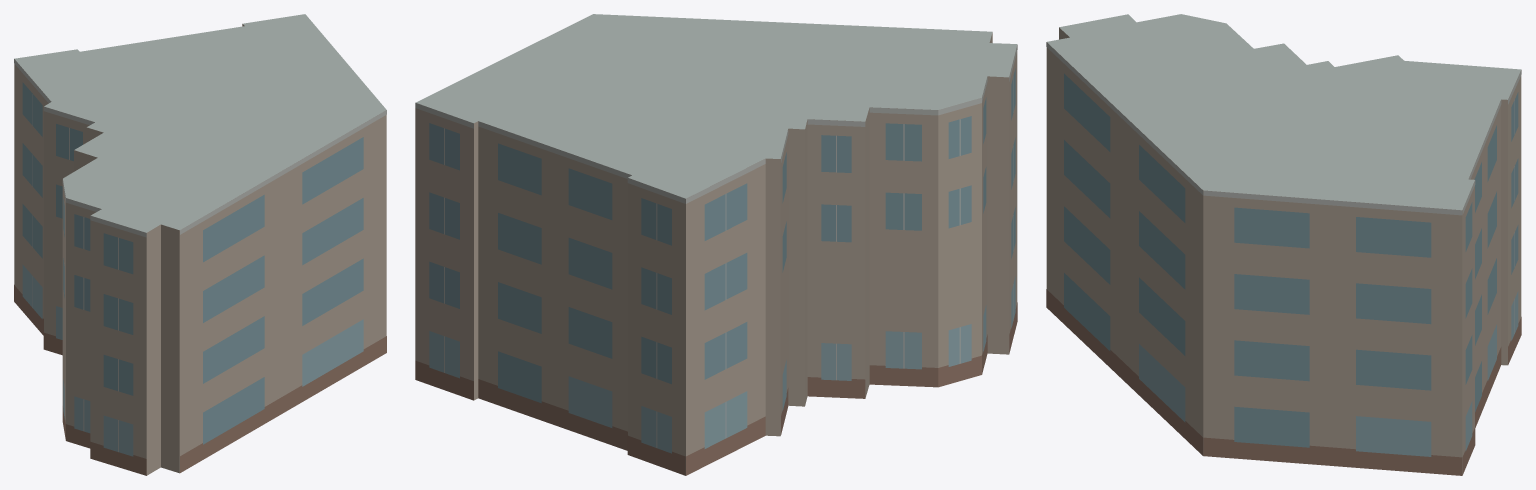
Rendered from survey-upis-33007033.glb.
3 views of the same model, side by side, from view 1: azimuth 30°, elevation 25°; view 2: azimuth 150°, elevation 25°; view 3: azimuth 270°, elevation 25° (orthographic). The views are drawn at different scales.
Parts seen in each view (by area): view 1: survey-upis-33007033.tmp; view 2: survey-upis-33007033.tmp; view 3: survey-upis-33007033.tmp.
Boxes of the visible parts, <box> form: survey-upis-33007033.tmp: <box>14,14,386,475</box>; survey-upis-33007033.tmp: <box>415,14,1017,475</box>; survey-upis-33007033.tmp: <box>1046,14,1521,475</box>.
Bounding box in the file's own units: 19.98 × 12.6 × 20.43.
